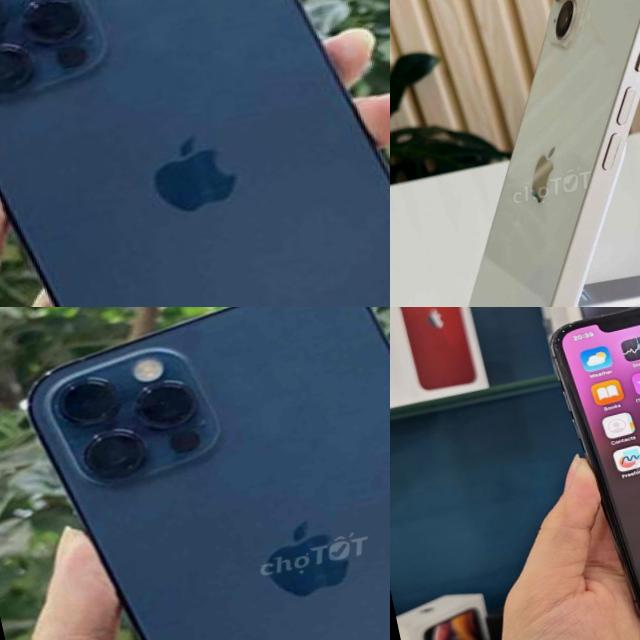gen_12_13: (14, 307, 390, 640), (0, 0, 390, 307)
gen_14: (390, 0, 640, 307)
gen_x_xs: (519, 307, 640, 640)
